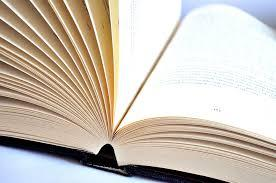Paper: (2, 3, 276, 183)
